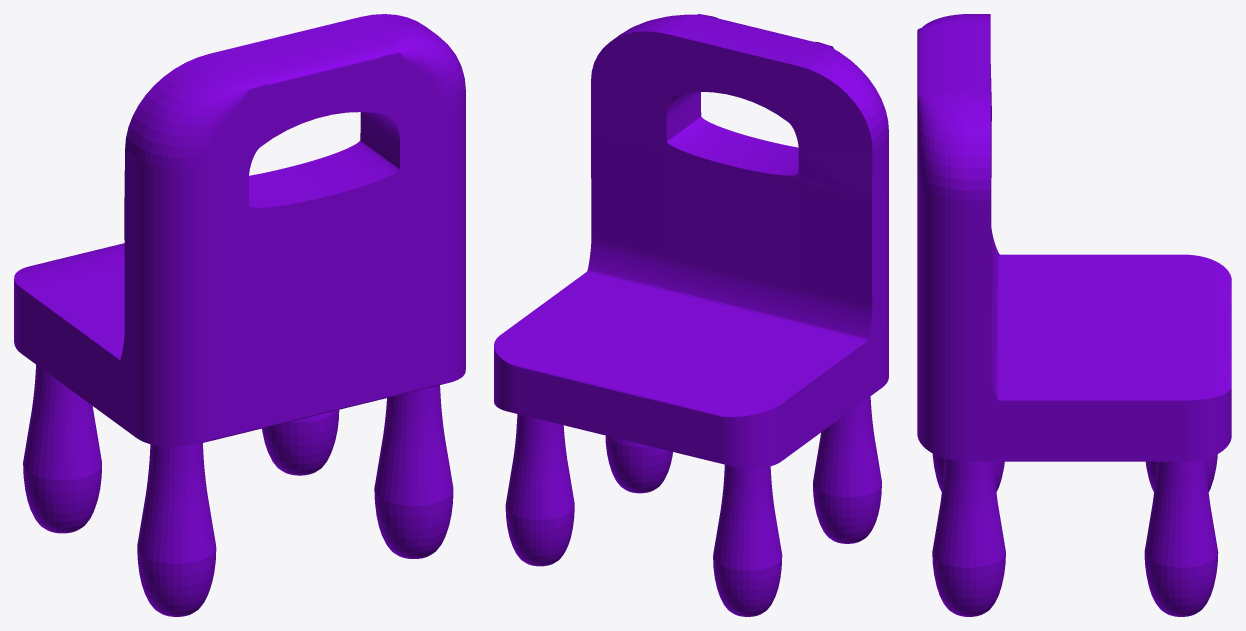
File: Silla.fbx
3 views of the same model, side by side, from view 1: azimuth 30°, elevation 25°; view 2: azimuth 150°, elevation 25°; view 3: azimuth 270°, elevation 25° (orthographic). The views are drawn at different scales.
Visible parts, largest first — view 1: Silla.001; view 2: Silla.001; view 3: Silla.001.
Boxes of the visible parts, x1,y1,x2,y2 form: Silla.001: (14,14,465,616); Silla.001: (494,14,888,616); Silla.001: (917,14,1231,616).
Size of the model in its own units: 74.93 by 119 by 68.22.
